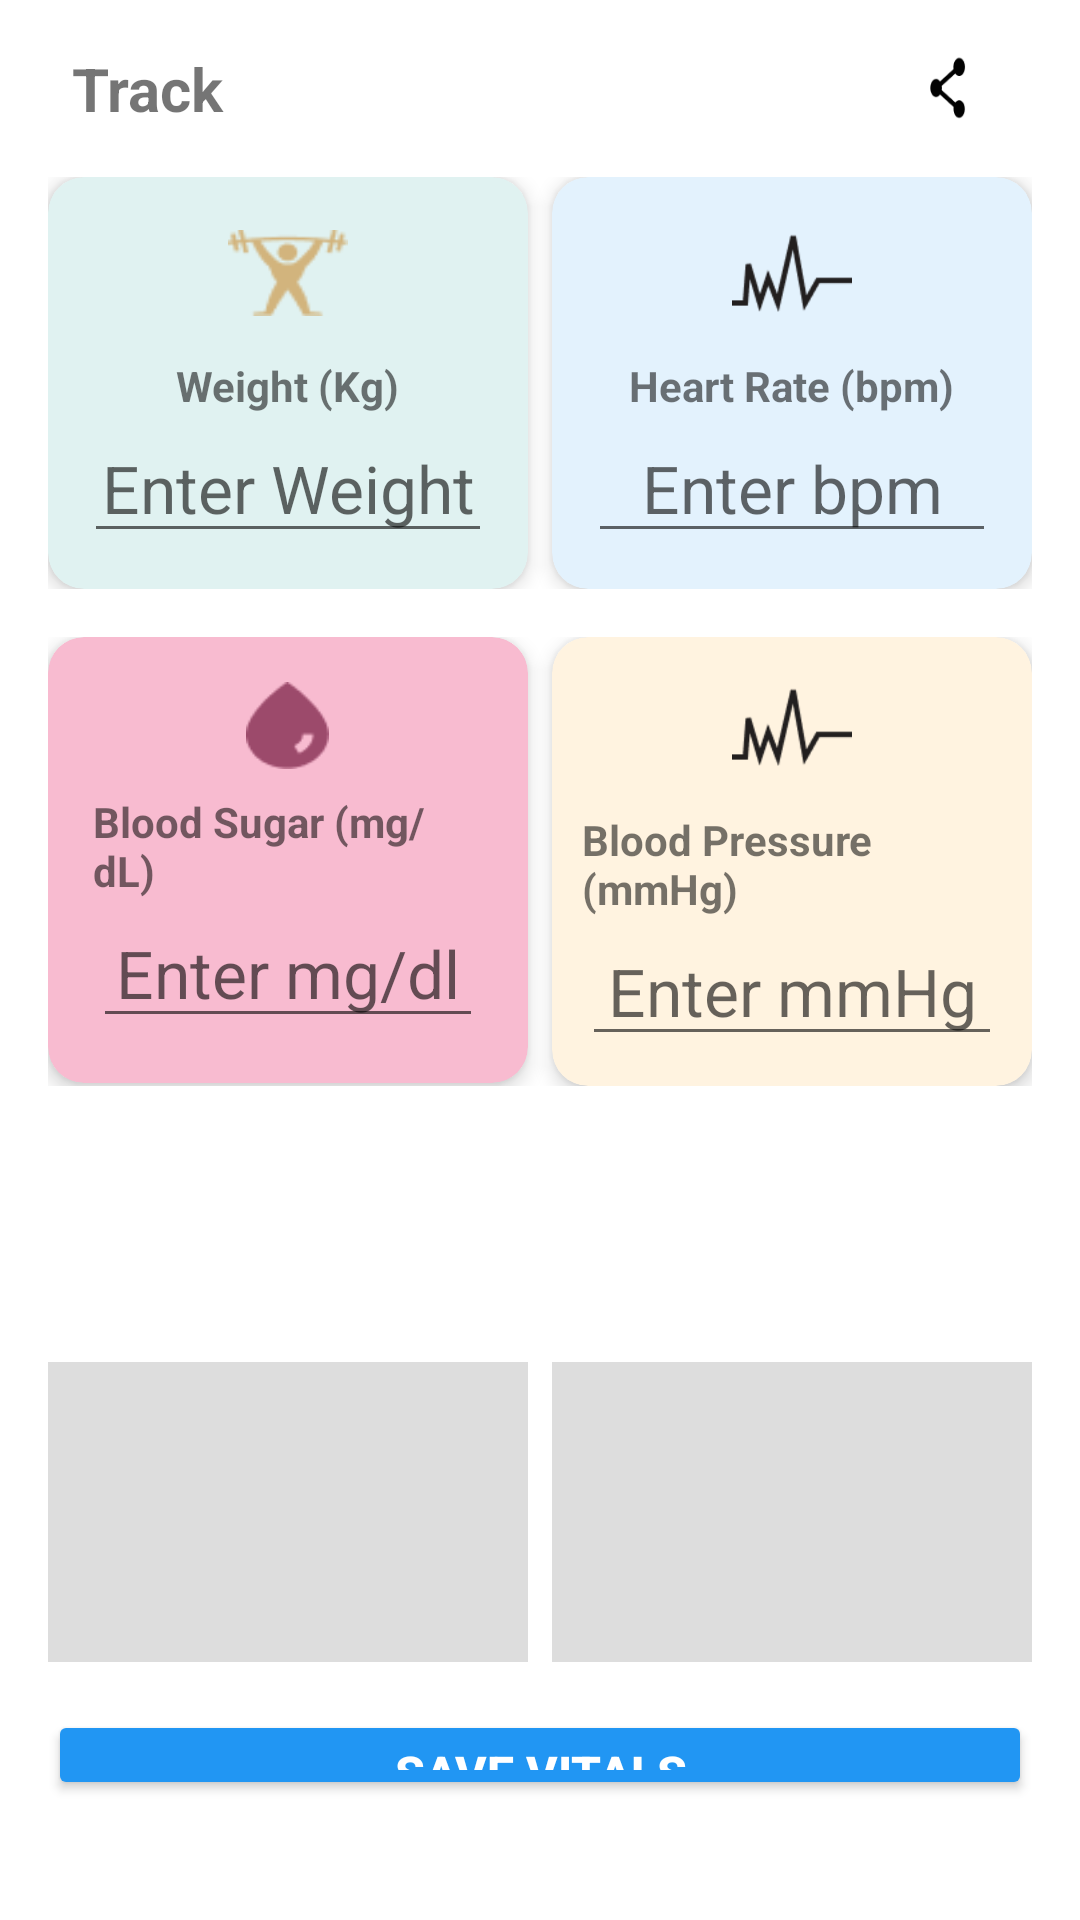

Icon click points for this 1080px x 1920px phone screenshot, format (x=x, y=y):
share: (x=947, y=87)
